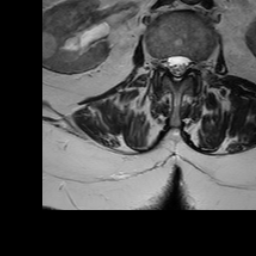CCS_normal: (172, 44, 182, 89)
LFS_normal: (191, 50, 200, 81)
LLS_normal: (182, 46, 191, 81)
RFS_normal: (154, 46, 164, 76)
RLS_normal: (164, 46, 172, 79)
